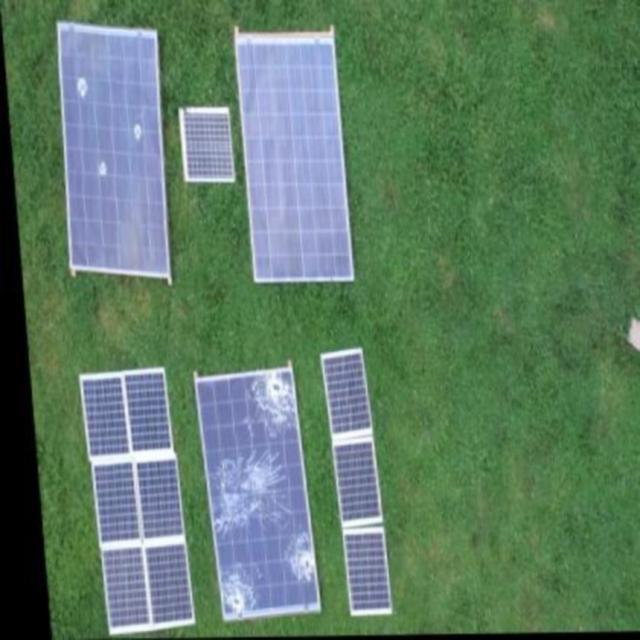cracked: (194, 356, 322, 626)
soiled: (55, 17, 174, 288)
